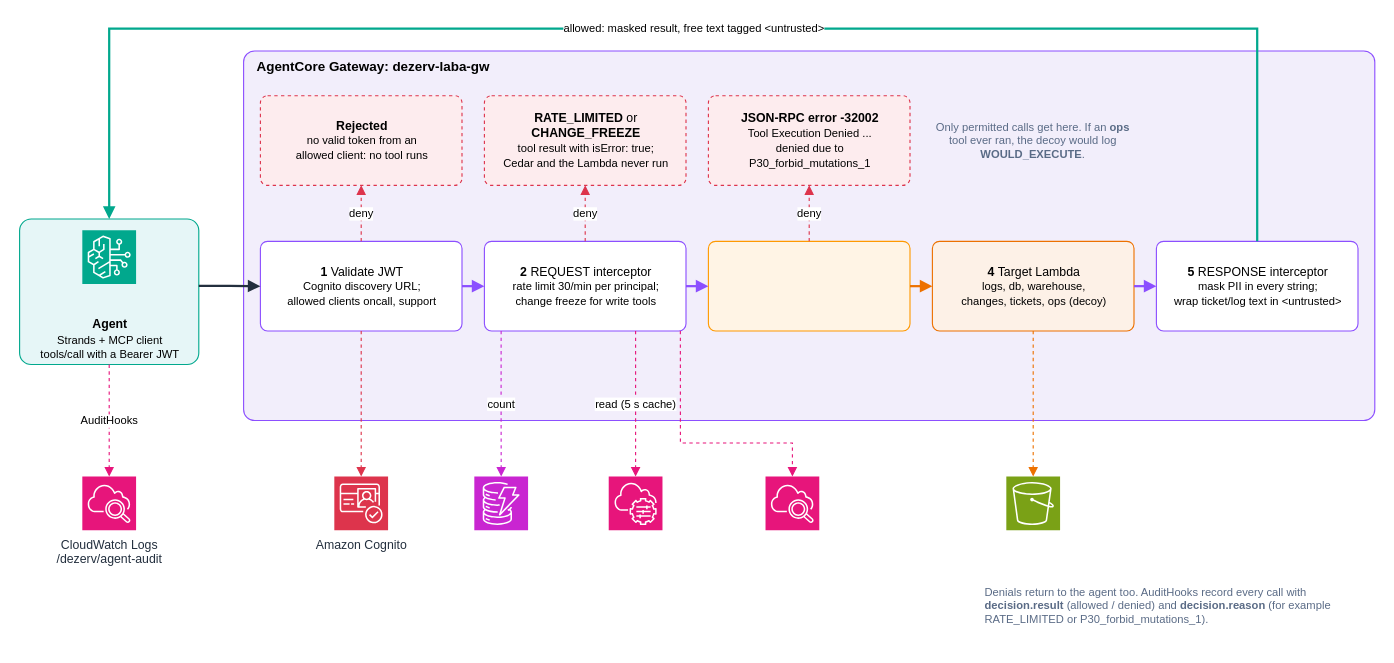
This 1394x663 diagram has some shape labels left out. Here are the shapes that lost their labels. From the top down, the box of each, then its label:
(707, 240, 910, 331): 3 Cedar policy (ENFORCE) default deny; forbid beats permit
(473, 475, 528, 530): DynamoDB dezerv-ratelimit
(608, 475, 662, 530): SSM parameter /dezerv/freeze
(764, 475, 819, 530): CloudWatch Logs /dezerv/gateway-audit
(1005, 475, 1060, 530): Synthetic data S3, Logs, tickets
